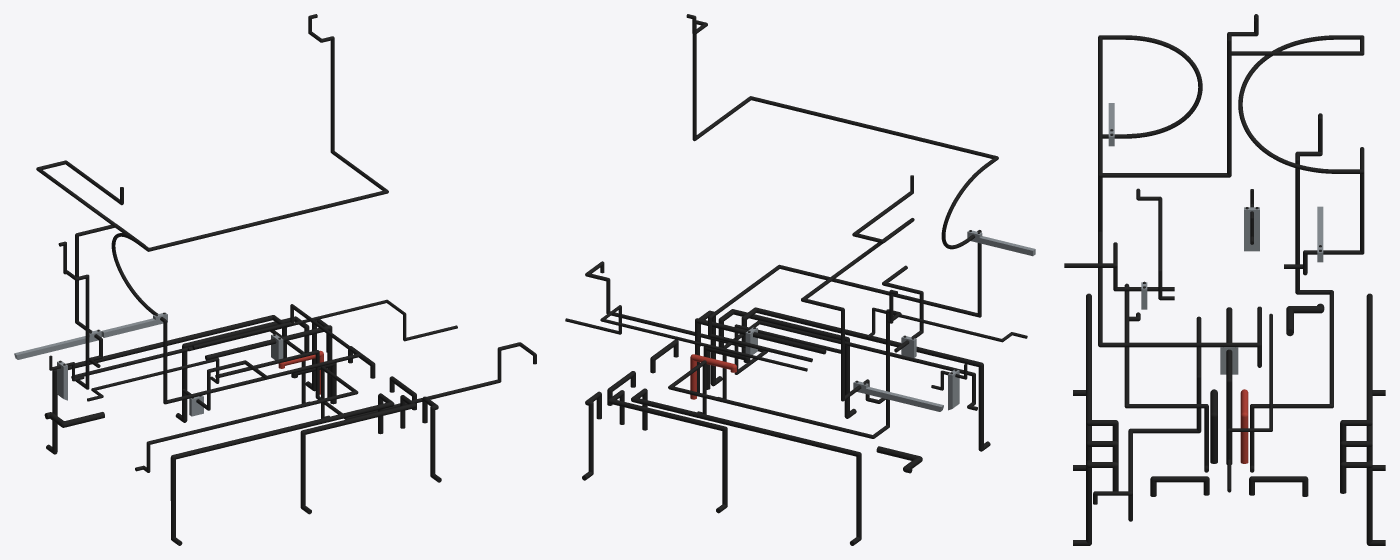
The model's file is preview_wiring.glb.
3 views of the same model, side by side, from view 1: azimuth 30°, elevation 25°; view 2: azimuth 150°, elevation 25°; view 3: azimuth 270°, elevation 25° (orthographic). The views are drawn at different scales.
Parts seen in each view (by area): view 1: cable_camera01, cable_motor_RR, cable_motor_RL, cable_antenna, cable_estop, cable_camera02, cable_power_switch, cable_motor_MR, cable_motor_ML, cable_compute_power, cable_lightbar_front, cable_motor_FR (+2 smaller); view 2: cable_camera01, cable_motor_RL, cable_estop, cable_motor_RR, cable_antenna, cable_camera02, cable_motor_ML, cable_power_switch, cable_lightbar_front, cable_motor_MR, cable_compute_power, cable_motor_FL (+4 smaller); view 3: cable_camera01, cable_antenna, cable_estop, cable_camera02, cable_power_switch, cable_motor_RL, cable_motor_RR, cable_motor_FL, cable_lightbar_front, cable_compute_power, cable_motor_FR, cable_camera03 (+9 smaller).
Part boxes in pixels (left/top/right/bottom): cable_camera01: left=111, top=14, right=388, bottom=404; cable_motor_RR: left=170, top=393, right=394, bottom=545; cable_motor_RL: left=46, top=315, right=286, bottom=454; cable_antenna: left=36, top=160, right=145, bottom=367; cable_estop: left=58, top=241, right=309, bottom=403; cable_camera02: left=215, top=342, right=536, bottom=419; cable_power_switch: left=135, top=366, right=358, bottom=472; cable_motor_MR: left=300, top=395, right=416, bottom=514; cable_motor_ML: left=175, top=316, right=309, bottom=422; cable_compute_power: left=205, top=325, right=332, bottom=397; cable_lightbar_front: left=187, top=299, right=457, bottom=351; cable_motor_FR: left=422, top=396, right=441, bottom=482; cable_camera01: left=686, top=14, right=998, bottom=362; cable_motor_RL: left=631, top=388, right=861, bottom=545; cable_estop: left=668, top=289, right=901, bottom=438; cable_motor_RR: left=741, top=307, right=990, bottom=451; cable_antenna: left=801, top=175, right=914, bottom=403; cable_camera02: left=585, top=261, right=840, bottom=374; cable_motor_ML: left=608, top=390, right=727, bottom=513; cable_power_switch: left=718, top=320, right=977, bottom=410; cable_lightbar_front: left=565, top=305, right=807, bottom=371; cable_motor_MR: left=718, top=309, right=856, bottom=418; cable_compute_power: left=695, top=318, right=826, bottom=392; cable_motor_FL: left=582, top=391, right=601, bottom=480; cable_camera01: left=1098, top=14, right=1261, bottom=367; cable_antenna: left=1231, top=35, right=1364, bottom=275; cable_estop: left=1250, top=113, right=1333, bottom=472; cable_camera02: left=1093, top=316, right=1201, bottom=521; cable_power_switch: left=1124, top=283, right=1208, bottom=472; cable_motor_RL: left=1340, top=293, right=1385, bottom=443; cable_motor_RR: left=1073, top=293, right=1118, bottom=442; cable_motor_FL: left=1340, top=460, right=1385, bottom=545; cable_lightbar_front: left=1227, top=313, right=1272, bottom=492; cable_compute_power: left=1226, top=307, right=1232, bottom=464; cable_motor_FR: left=1073, top=460, right=1118, bottom=545; cable_camera03: left=1064, top=242, right=1174, bottom=291.
Size of the model in its own units: 777 by 729 by 424.
